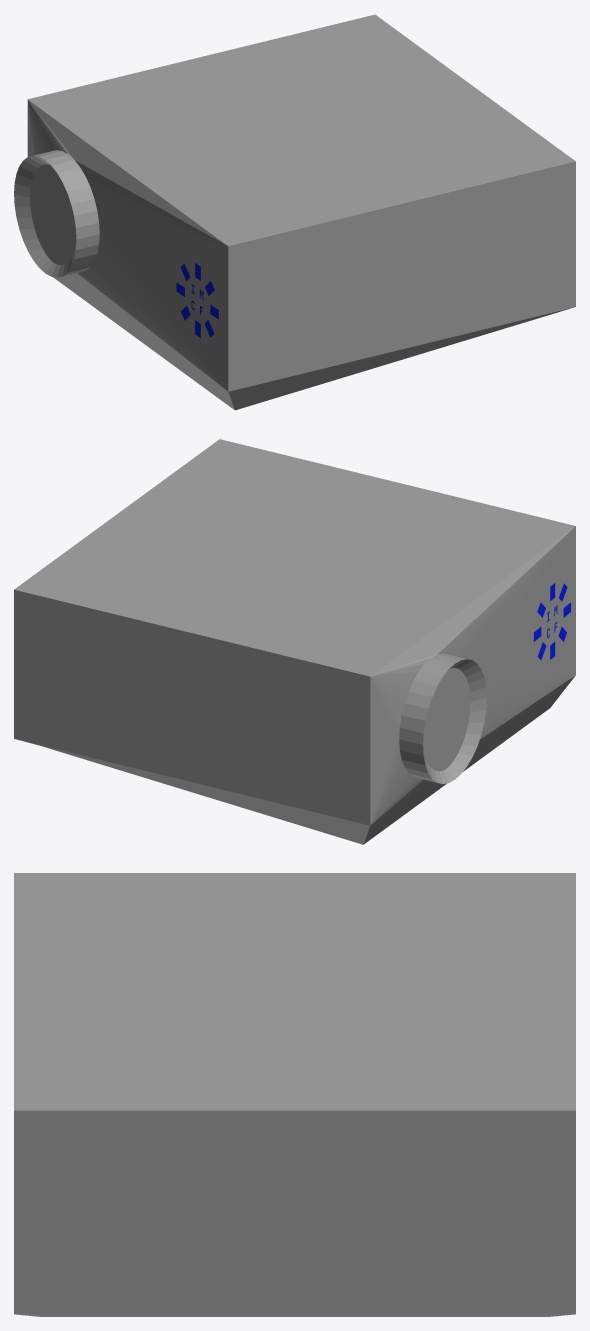
Rendered from Projector.glb.
3 views of the same model, one above another, from view 1: azimuth 30°, elevation 25°; view 2: azimuth 150°, elevation 25°; view 3: azimuth 270°, elevation 25° (orthographic). The views are drawn at different scales.
Parts seen in each view (by area): view 1: Cube, IMCF; view 2: Cube, IMCF; view 3: Cube.
Boxes of the visible parts, box(x1,y1,x2,y2) form: Cube: box(14, 14, 575, 410); IMCF: box(176, 263, 218, 337); Cube: box(14, 439, 575, 844); IMCF: box(533, 583, 570, 660); Cube: box(14, 873, 575, 1316).
Size of the model in its own units: 4.37 by 1.92 by 4.
Materials: 2 (1 with a texture image).
